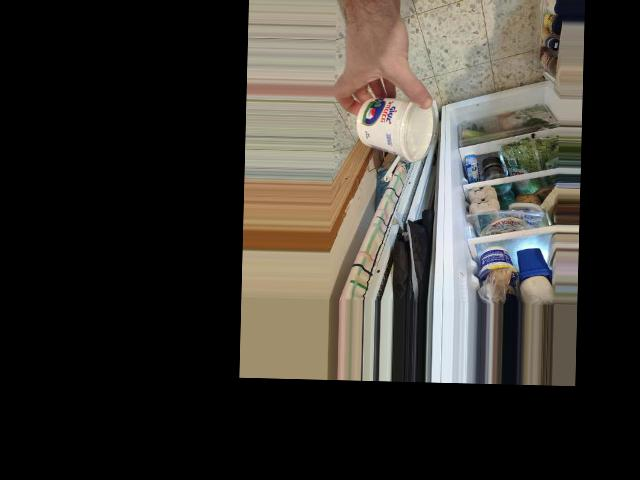cotage: (353, 84, 437, 164)
